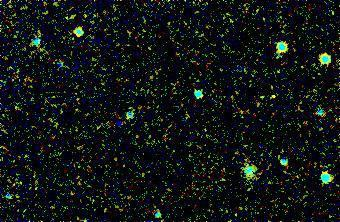star: (259, 81, 289, 111)
